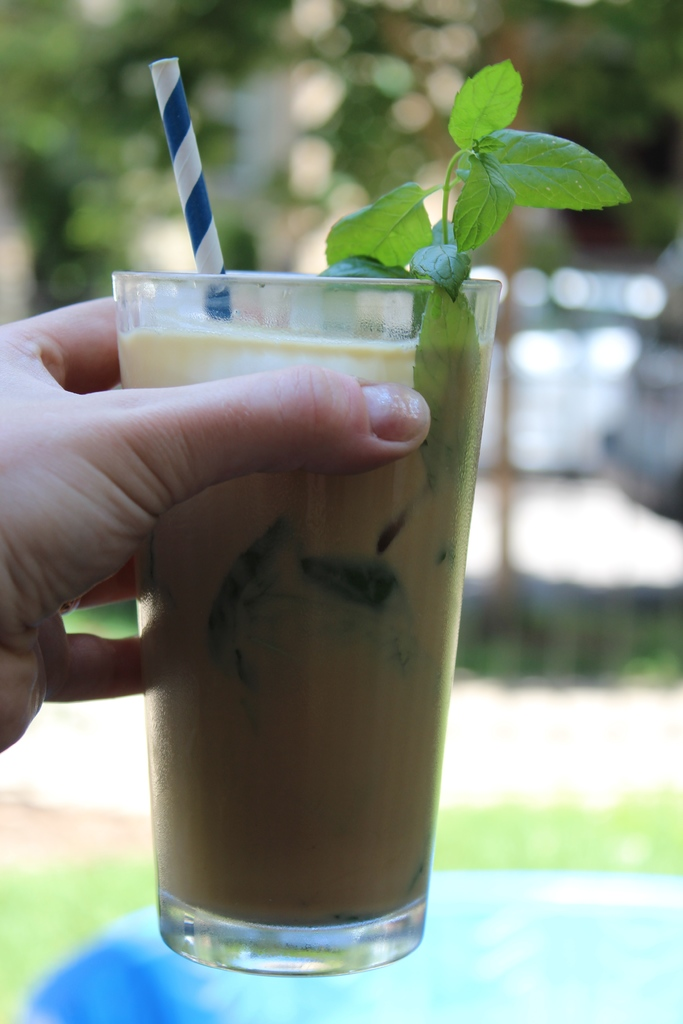person: (0, 296, 432, 773)
